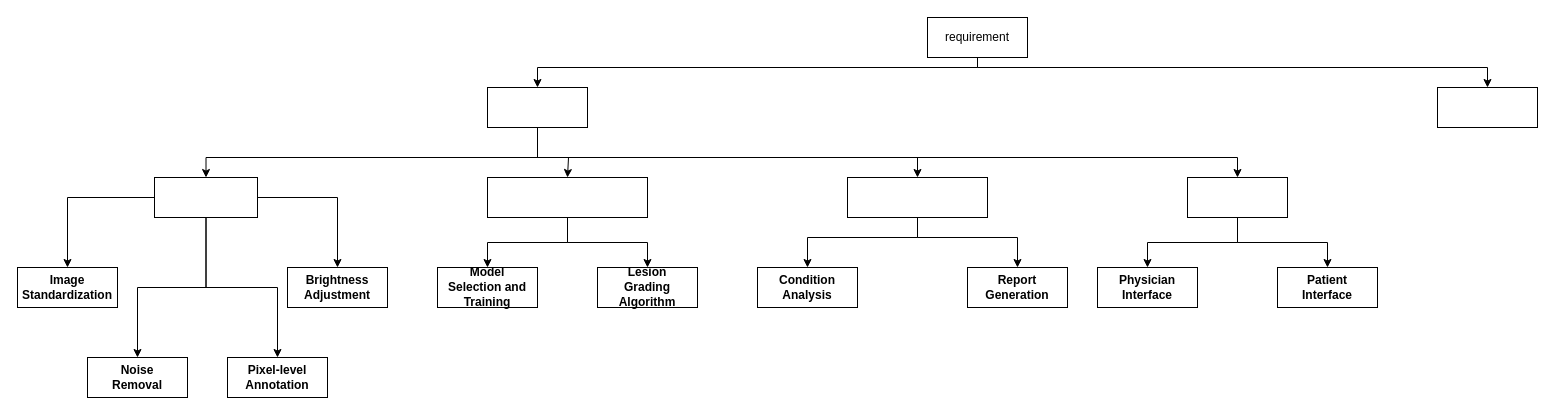
The diagram is 1555 pixels wide and 415 high, and some of its shapes have lost their labels. Each missing label, with the centre of its shape:
"Automated Detection Report Generation" goes at point 917,197.
"Data Input and Enhancement Processing" goes at point 206,197.
"Deep Learning-Based Lesion Grading Detection Algorithm" goes at point 567,197.
"Functional requirements" goes at point 537,107.
"non-f unctional requirements" goes at point 1487,107.
"User Interface" goes at point 1237,197.
